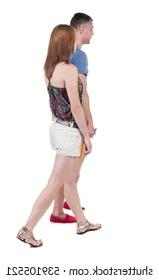Shorts: (48, 120, 81, 158)
short sleeve shirt: (67, 46, 91, 86)
vest: (47, 76, 84, 123)
